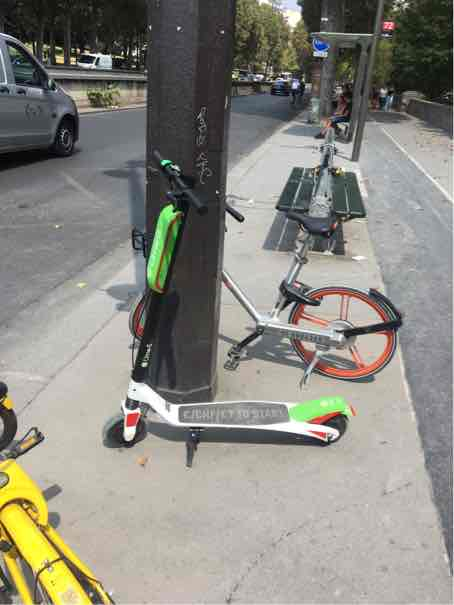scooter: (94, 148, 352, 463)
